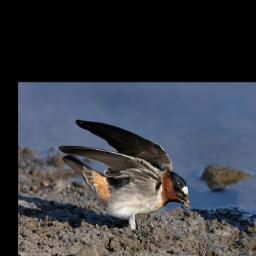Swallow: (59, 119, 190, 243)
